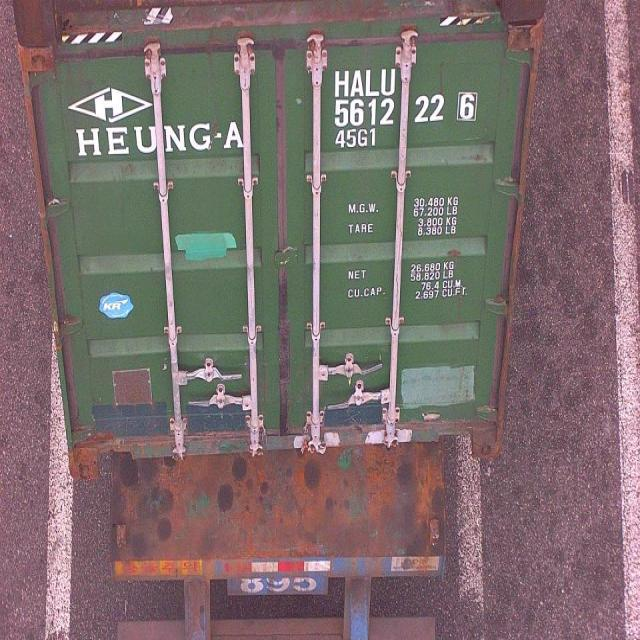ISO: (334, 128, 376, 153)
container_number: (334, 68, 468, 125)
